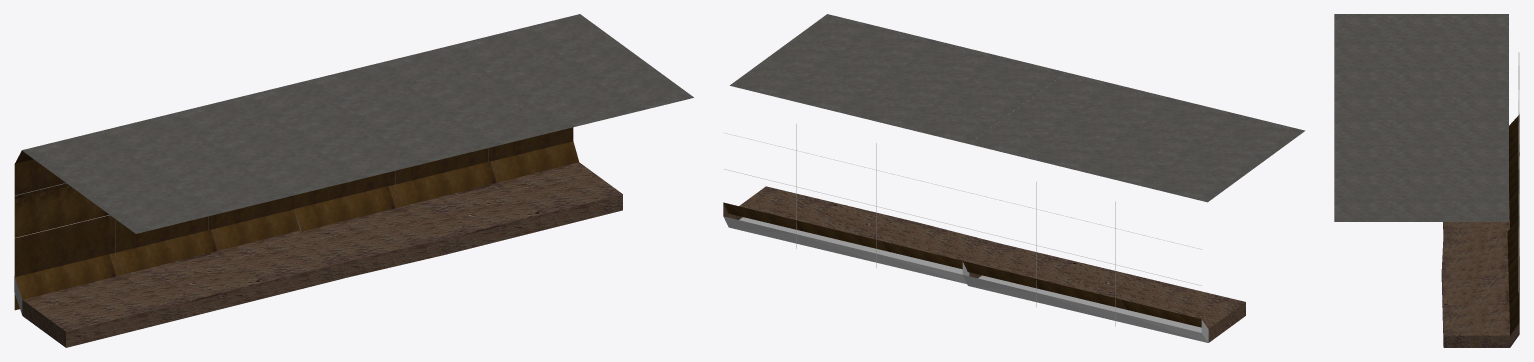
Rendered from Drain.fbx.
The picture shows the model from 3 angles, left to right: view 1: azimuth 30°, elevation 25°; view 2: azimuth 150°, elevation 25°; view 3: azimuth 270°, elevation 25°; orthographic projection. The views are drawn at different scales.
Visible parts, largest first — view 1: polySurface3; view 2: polySurface3; view 3: polySurface3.
Boxes of the visible parts, x1,y1,x2,y2 form: polySurface3: (14, 14, 693, 347); polySurface3: (723, 14, 1305, 342); polySurface3: (1334, 14, 1519, 347).
Size of the model in its own units: 155 by 43.88 by 58.54.
